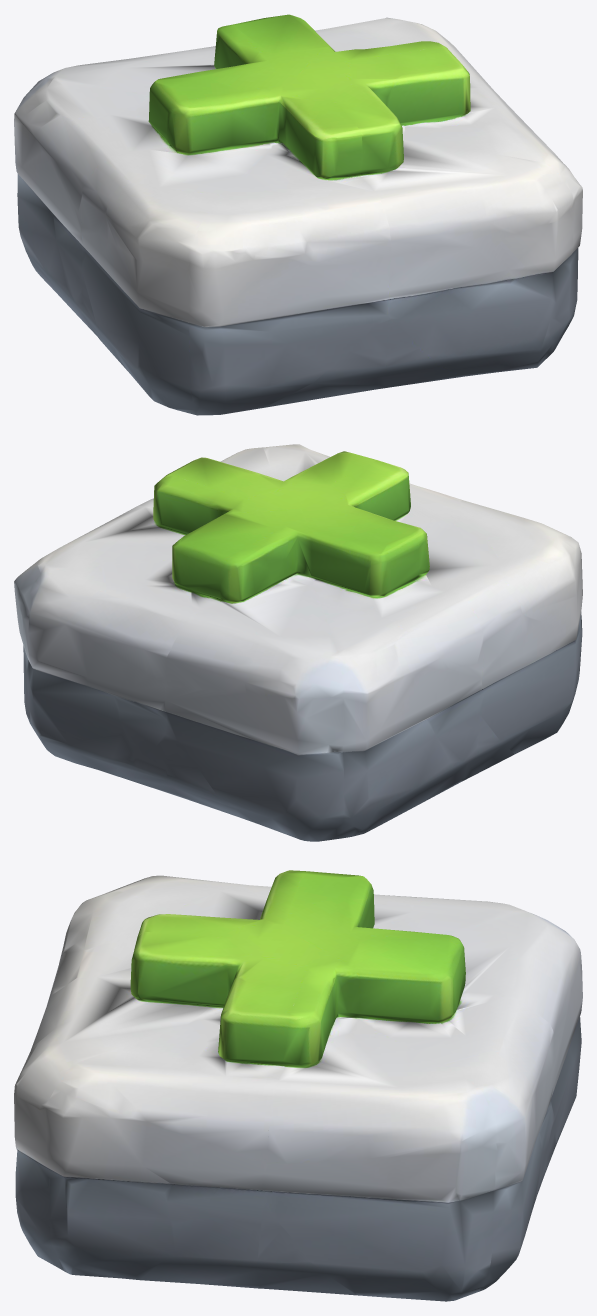
File: prop_heal_pack.glb
3 views of the same model, one above another, from view 1: azimuth 30°, elevation 25°; view 2: azimuth 150°, elevation 25°; view 3: azimuth 270°, elevation 25° (orthographic). The views are drawn at different scales.
Parts seen in each view (by area): view 1: tripo_node_5619b0cd-0917-4dd5-9f4e-262b81ebb994; view 2: tripo_node_5619b0cd-0917-4dd5-9f4e-262b81ebb994; view 3: tripo_node_5619b0cd-0917-4dd5-9f4e-262b81ebb994.
Boxes of the visible parts, <box> form: tripo_node_5619b0cd-0917-4dd5-9f4e-262b81ebb994: <box>14,14,582,415</box>; tripo_node_5619b0cd-0917-4dd5-9f4e-262b81ebb994: <box>14,444,582,841</box>; tripo_node_5619b0cd-0917-4dd5-9f4e-262b81ebb994: <box>14,870,582,1301</box>.
Bounding box in the file's own units: 0.9974 × 0.506 × 0.9996.
1 material, 1 textured.
